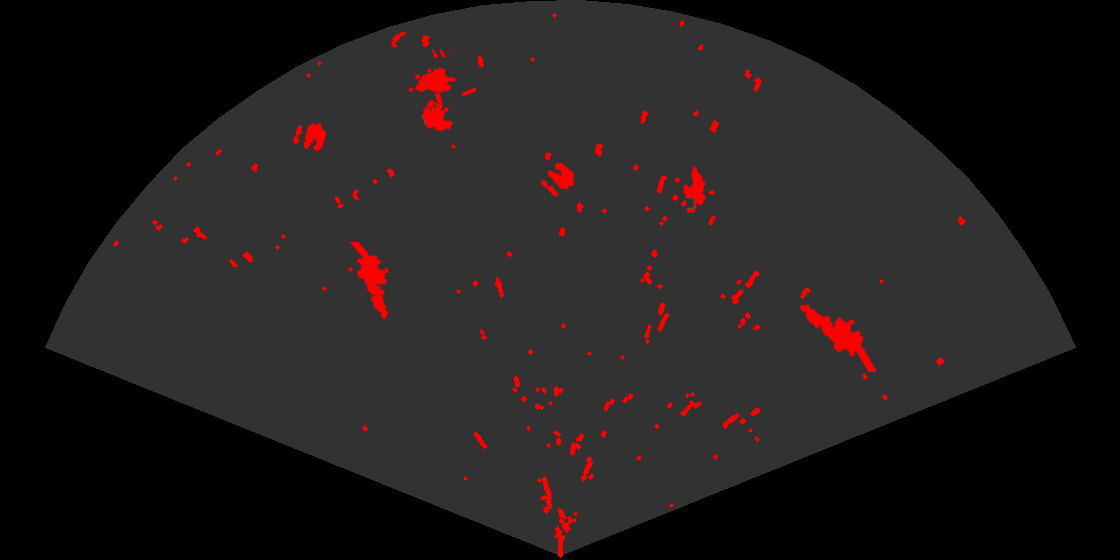AUV: (682, 165, 707, 215)
ball: (539, 161, 576, 198), (291, 121, 328, 153)
cage: (407, 49, 476, 133)
frogman: (798, 302, 876, 372), (348, 242, 390, 321)
